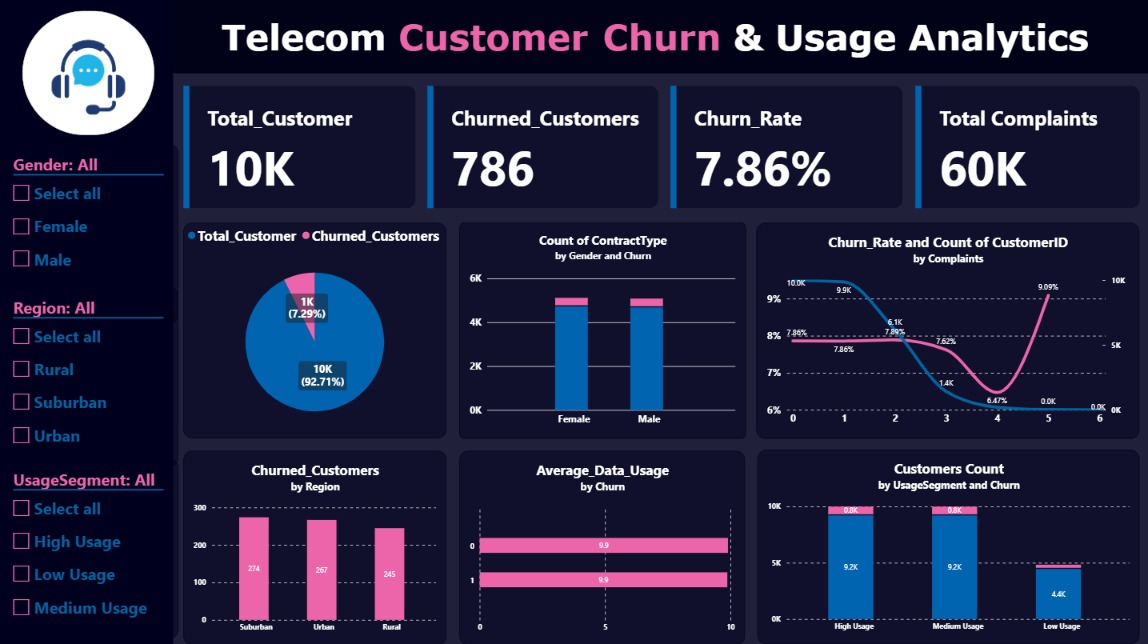

The dashboard page shown, as its layout file describes it:
{"tool":"powerbi","page":{"name":"Page 1","canvas":[1920,1080],"ordinal":0},"visuals":[{"type":"shape","box":[74.1,0,1846.3,127.6],"z":0},{"type":"shape","box":[0,0,291.5,1080.9],"z":1000},{"type":"image","box":[40,22.5,220,207.5],"z":2000},{"type":"cardVisual","fields":{"Data":["customer_info.Total_Customer"]},"box":[308.5,148.9,387.2,204.3],"z":3000},{"type":"cardVisual","fields":{"Data":["churn_labels.Churned_Customers"]},"box":[715.6,148.9,385.1,204.3],"z":4000},{"type":"cardVisual","fields":{"Data":["churn_labels.Churn_Rate"]},"box":[1120.6,148.9,387.2,204.3],"z":5000},{"type":"cardVisual","fields":{"Data":["usage_data.Total Complaints"]},"box":[1527.7,148.9,374.5,204.3],"z":6000},{"type":"textbox","box":[372.3,17,1546.8,110.6],"z":7000},{"type":"pieChart","fields":{"Y":["customer_info.Total_Customer","churn_labels.Churned_Customers"]},"box":[308.5,376.6,438.3,359.6],"z":8000},{"type":"columnChart","fields":{"Category":["customer_info.Gender"],"Series":["churn_labels.Churn"],"Y":["CountNonNull(customer_info.ContractType)"]},"box":[767.8,376.7,477.5,360.2],"z":9000},{"type":"columnChart","fields":{"Category":["customer_info.Region"],"Y":["churn_labels.Churned_Customers"]},"box":[308,756,438,324],"z":10000},{"type":"lineChart","fields":{"Category":["usage_data.Complaints"],"Y":["churn_labels.Churn_Rate"],"Y2":["CountNonNull(churn_labels.CustomerID)"]},"box":[1264,376,638,360],"z":11000},{"type":"clusteredBarChart","fields":{"Category":["churn_labels.Churn"],"Y":["usage_data.Average_Data_Usage"]},"box":[768,756,476,324],"z":12000},{"type":"columnChart","fields":{"Category":["usage_data.UsageSegment"],"Series":["churn_labels.Churn"],"Y":["usage_data.Customers Count"]},"box":[1264.3,755.7,637.1,324.3],"z":13000},{"type":"slicer","fields":{"Values":["customer_info.Gender"]},"box":[0,245,300,300],"z":14000},{"type":"slicer","fields":{"Values":["customer_info.Region"]},"box":[0,482.5,300,300],"z":14001},{"type":"slicer","fields":{"Values":["usage_data.UsageSegment"]},"box":[0,770,300,300],"z":14002}]}

Visuals, with their boxes in screenshot pixels (x1, y1, x2, y2), scaled from the page's 1920x1080 canvas onto the 1148x644 screenshot:
shape: (44,0,1147,76)
shape: (0,0,174,643)
image: (24,13,155,137)
cardVisual - customer_info.Total_Customer: (184,89,416,211)
cardVisual - churn_labels.Churned_Customers: (428,89,658,211)
cardVisual - churn_labels.Churn_Rate: (670,89,902,211)
cardVisual - usage_data.Total Complaints: (913,89,1137,211)
textbox: (223,10,1147,76)
pieChart - customer_info.Total_Customer x churn_labels.Churned_Customers: (184,225,447,439)
columnChart - customer_info.Gender x churn_labels.Churn: (459,225,745,439)
columnChart - customer_info.Region x churn_labels.Churned_Customers: (184,451,446,643)
lineChart - usage_data.Complaints x churn_labels.Churn_Rate: (756,224,1137,439)
clusteredBarChart - churn_labels.Churn x usage_data.Average_Data_Usage: (459,451,744,643)
columnChart - usage_data.UsageSegment x churn_labels.Churn: (756,451,1137,643)
slicer - customer_info.Gender: (0,146,179,325)
slicer - customer_info.Region: (0,288,179,467)
slicer - usage_data.UsageSegment: (0,459,179,638)
